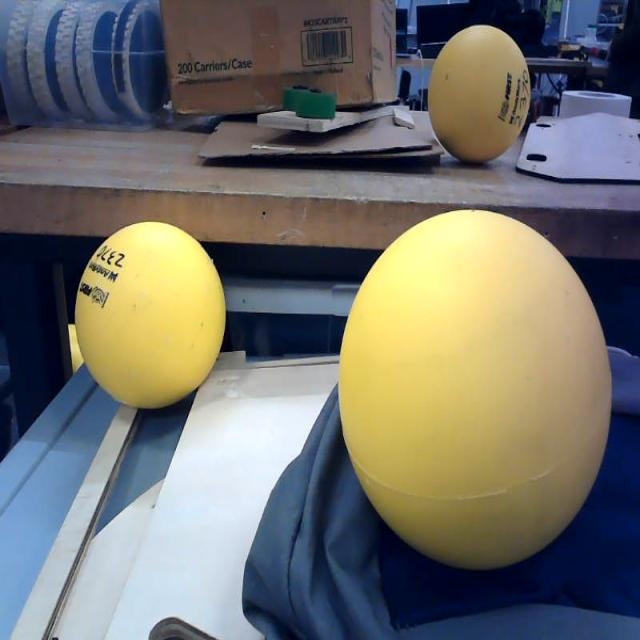Fuel: (339, 208, 611, 568), (75, 222, 226, 410), (428, 26, 531, 165)
